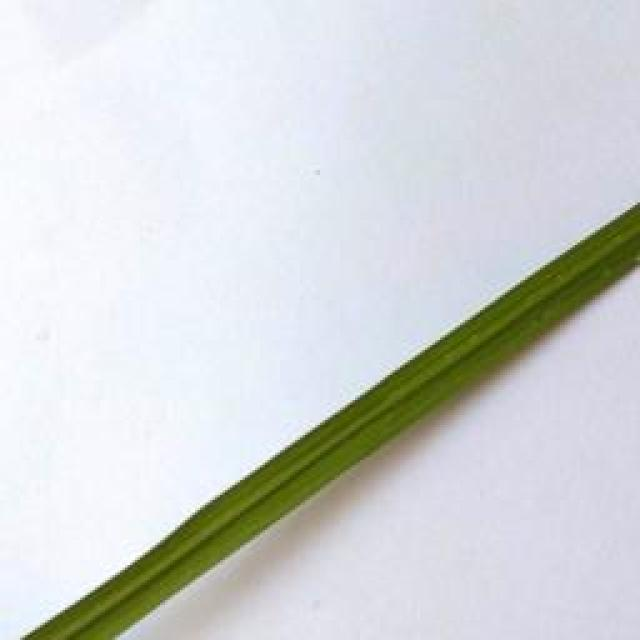Healthy: (25, 202, 640, 640)
